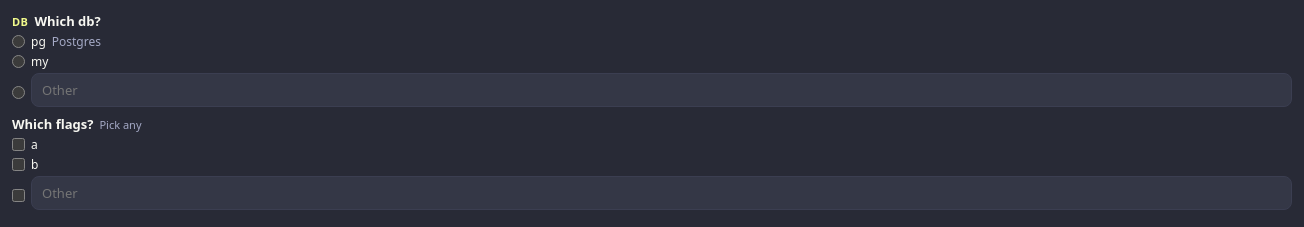
Scenario: the other toggle works for single and multi questions
Click the radio button named "Other" at (18, 92), box [12, 86, 25, 98]
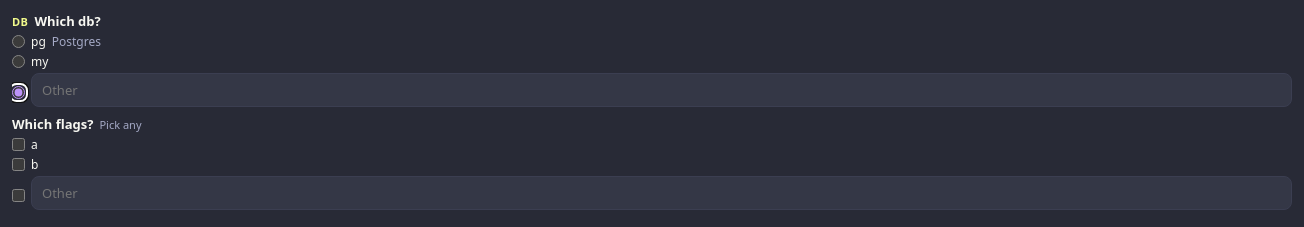
Result: the radio button named "Other" is checked at [12, 86, 25, 98]
Click the checkbox named "Other" at (18, 195), box [12, 188, 25, 202]
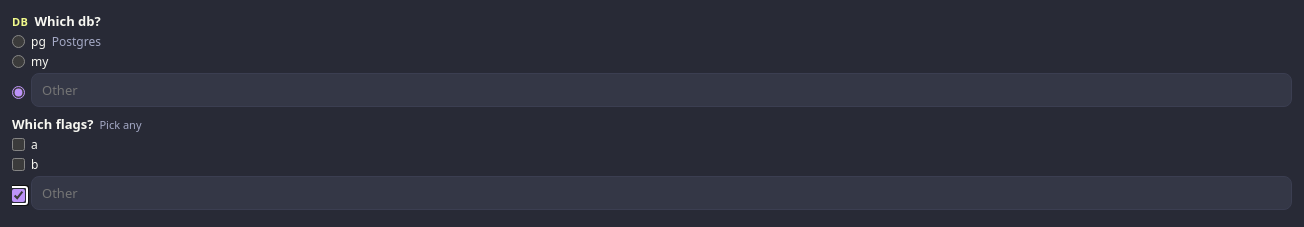
Result: the checkbox named "Other" is checked
Click the checkbox named "Other" at (18, 195), box [12, 188, 25, 202]
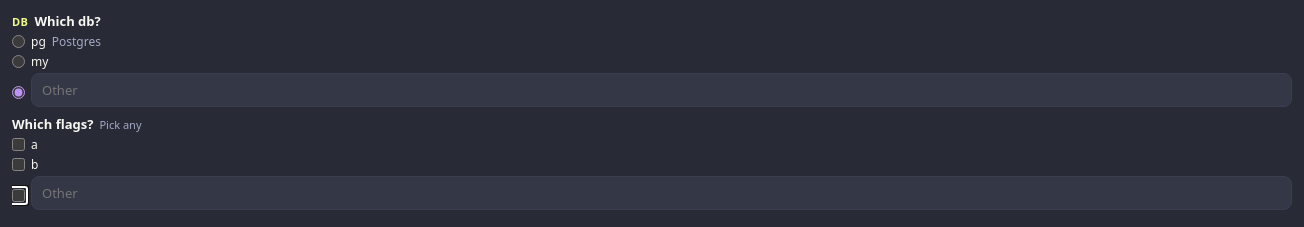
Result: the checkbox named "Other" is not checked at [12, 188, 25, 202]
